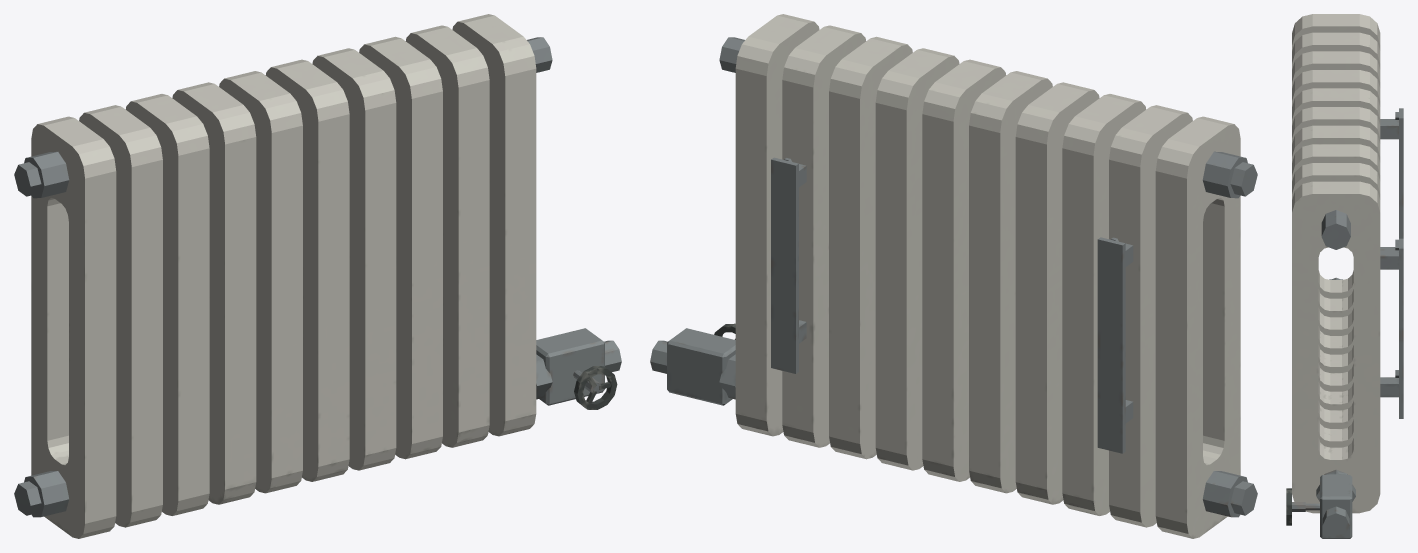
Rendered from apartment_radiator_large.glb.
The picture shows the model from 3 angles, left to right: view 1: azimuth 30°, elevation 25°; view 2: azimuth 150°, elevation 25°; view 3: azimuth 270°, elevation 25°; orthographic projection. The views are drawn at different scales.
Visible parts, largest first — view 1: RadiatorLarge; view 2: RadiatorLarge; view 3: RadiatorLarge.
Part boxes in pixels (x1=…): RadiatorLarge: x1=14, y1=14, x2=621, y2=538; RadiatorLarge: x1=650, y1=14, x2=1257, y2=538; RadiatorLarge: x1=1286, y1=14, x2=1403, y2=538.
Size of the model in its own units: 0.95 by 0.6 by 0.2.
Materials: 1 (1 with a texture image).
